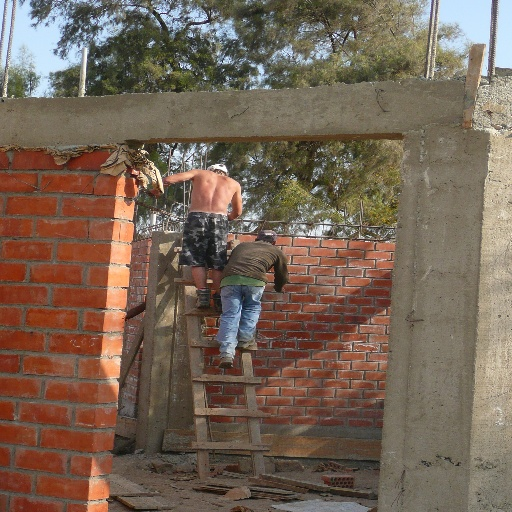hand: (146, 189, 161, 199), (273, 286, 286, 295), (226, 211, 229, 219)
